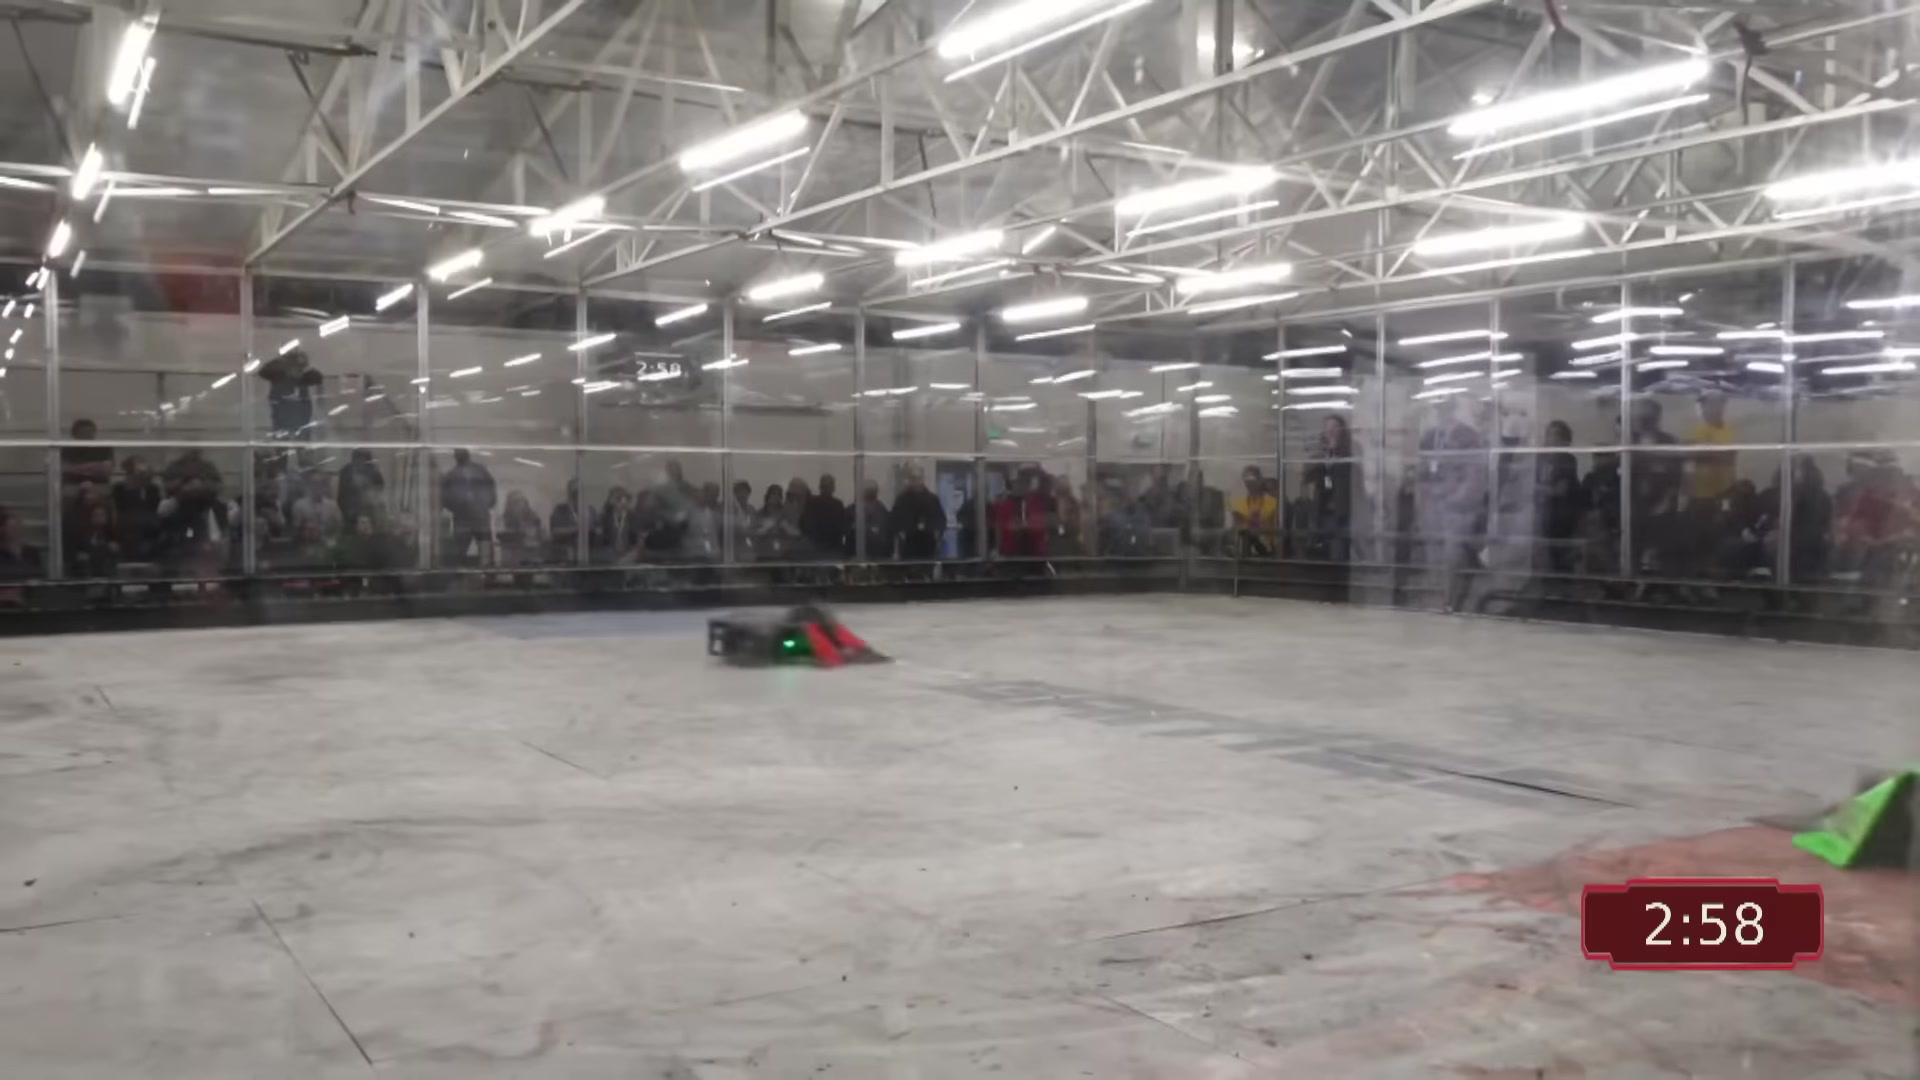combatbot: (1789, 766, 1920, 866), (709, 601, 895, 667)
